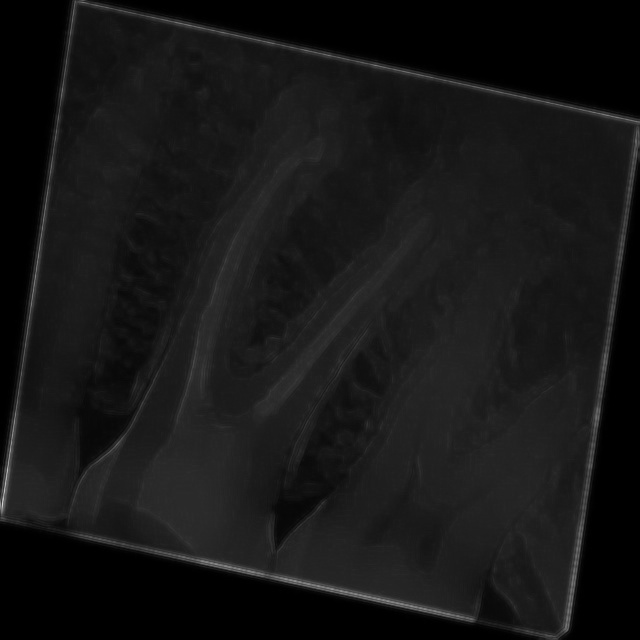Class 0- No endodontic treatment: (117, 36, 469, 596)
Class 1- complete endodontic treatment: (322, 150, 627, 638)
